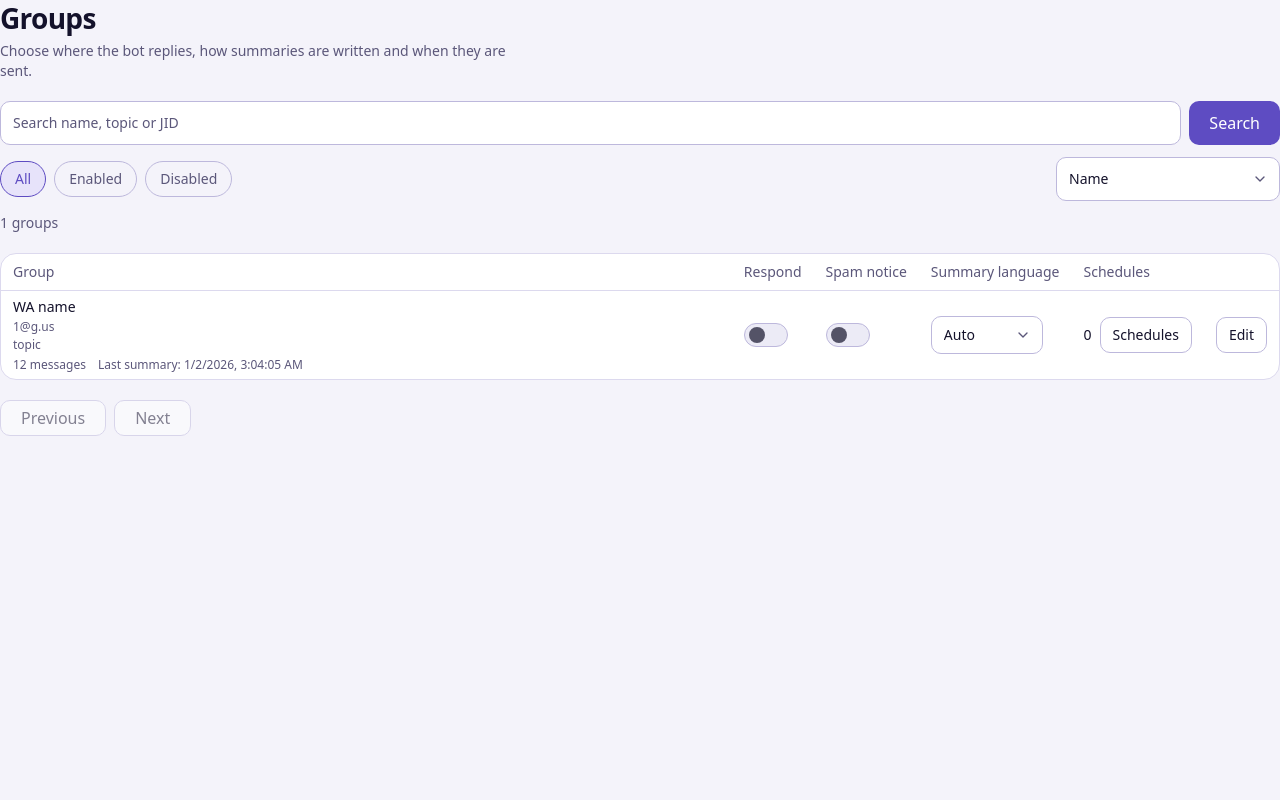
Test case: Groups page › keeps the dialog open with edits and an inner alert on failure, closes on retry success
Click the button with aria-label "edit 1@g.us": (1241, 335) [1216,317,1267,353]
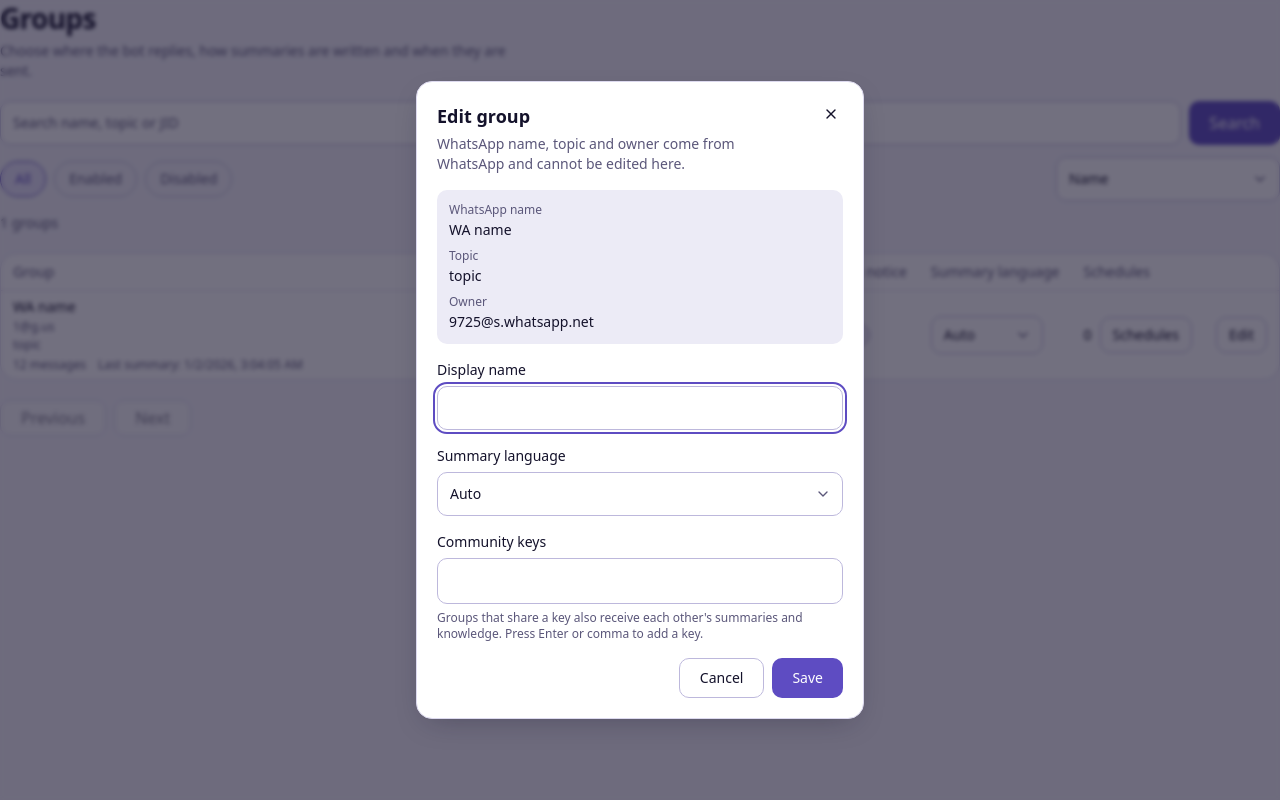
In the field labelled "Display name": (640, 408) [437,386,843,430], type "Friends"
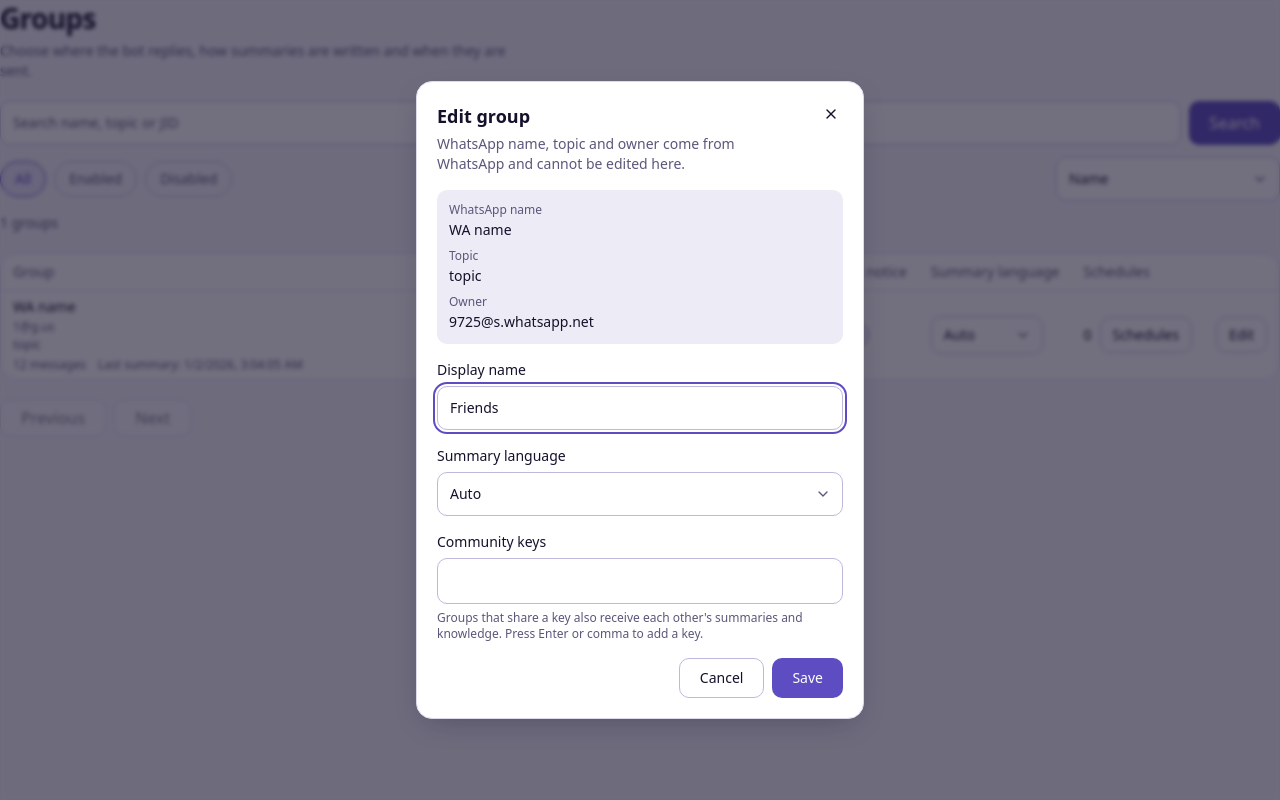
Click the button "Save": (808, 678) [772,658,843,698]
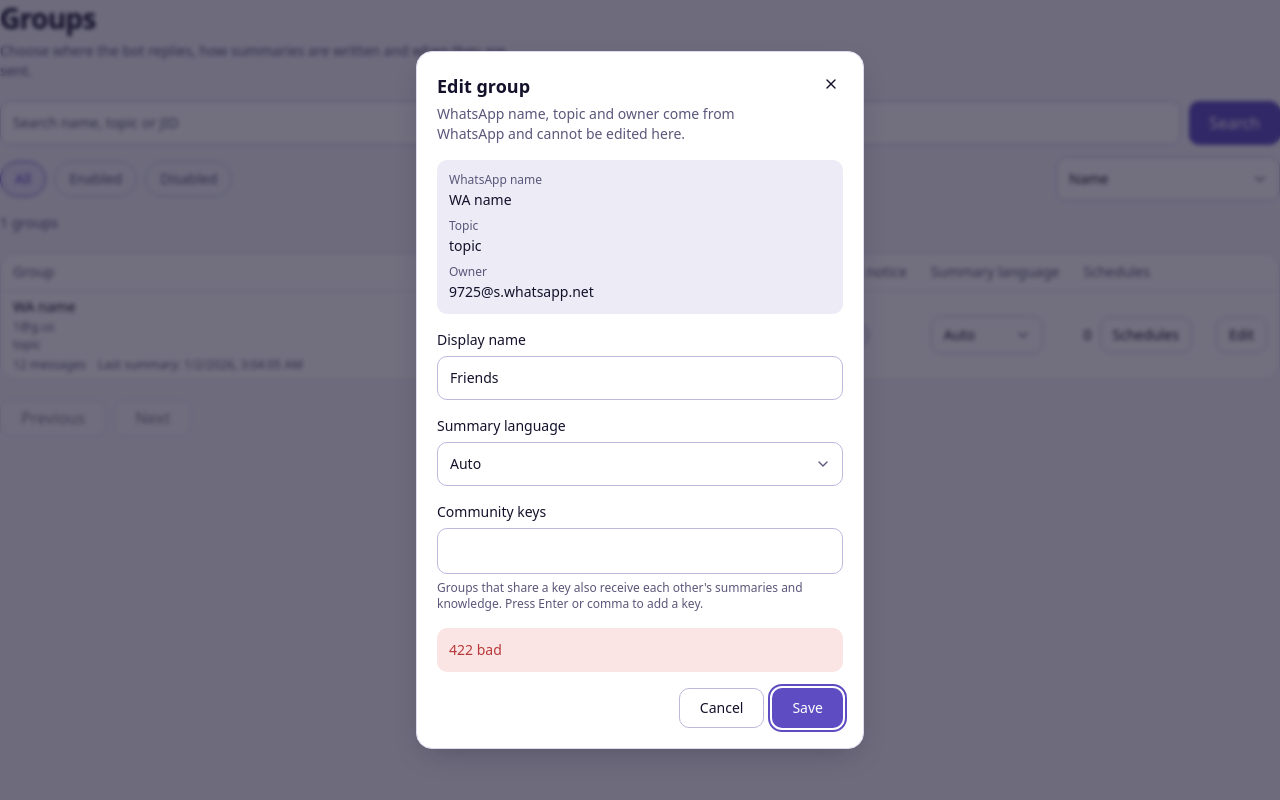
Expected: the dialog is shown, [416,51,864,749]
Expected: the message reads "422 bad", [449,640,502,659]
Click the button "Save": (808, 708) [772,688,843,728]
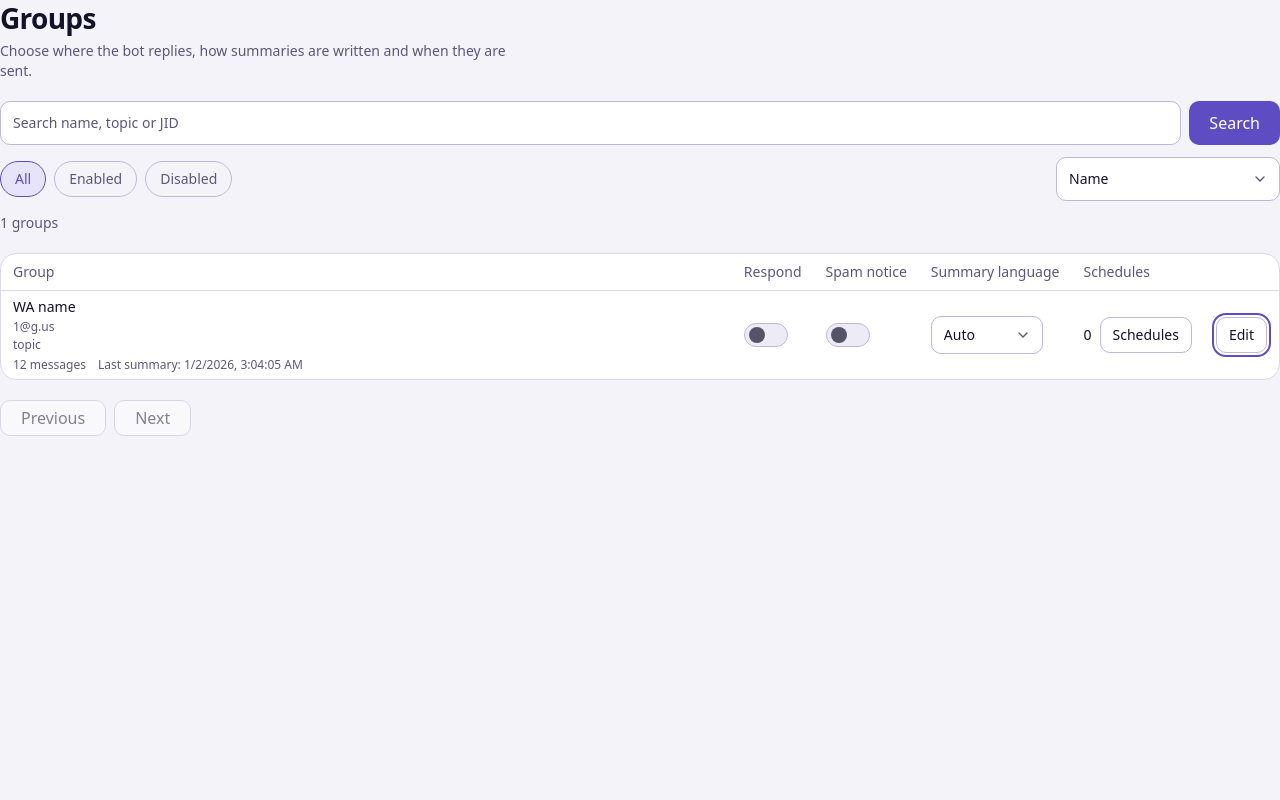
Expected: the dialog is gone
